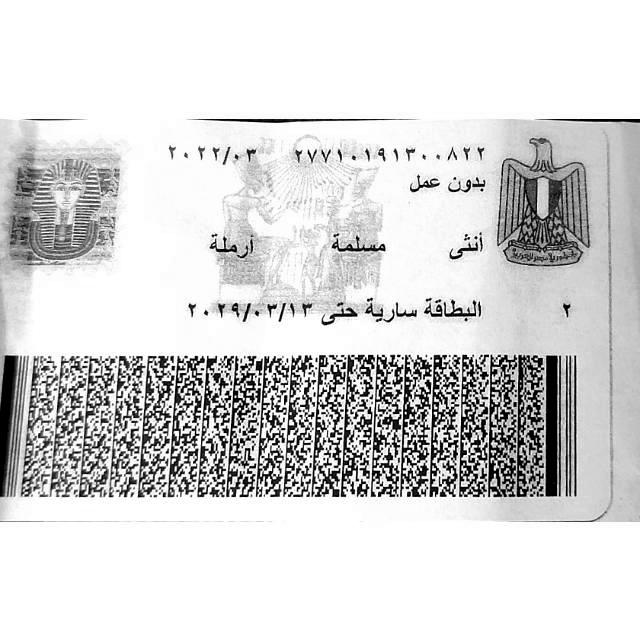id_card: (0, 120, 618, 519)
